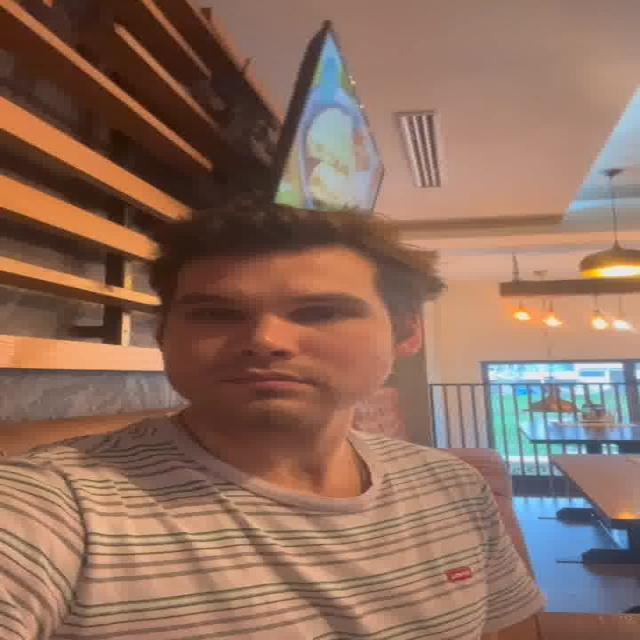earlobe: (391, 341, 420, 359)
eye: (294, 306, 350, 322), (196, 309, 240, 322)
nose: (244, 351, 292, 373)
wholeear: (391, 310, 427, 359)
